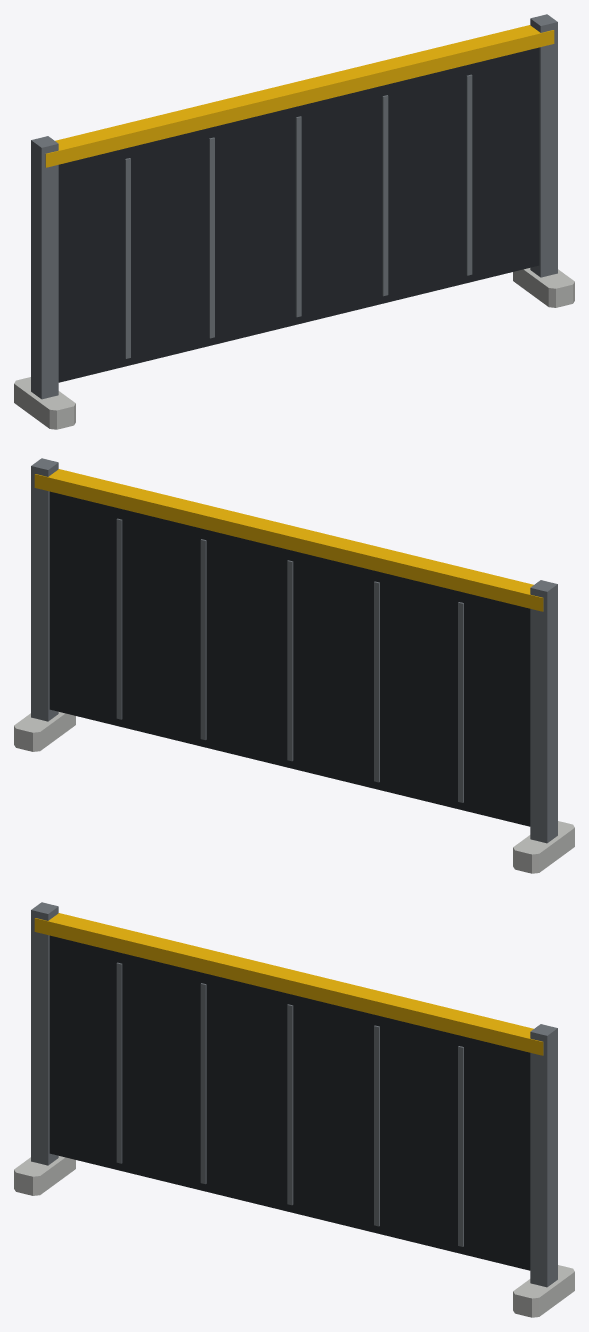
Rendered from CONSTRUCTION_FENCE_01.glb.
The picture shows the model from 3 angles, top to bottom: view 1: azimuth 30°, elevation 25°; view 2: azimuth 150°, elevation 25°; view 3: azimuth 330°, elevation 25°; orthographic projection.
Visible parts, largest first — view 1: CIVRUM_GAME_CONSTRUCTION_FENCE_01; view 2: CIVRUM_GAME_CONSTRUCTION_FENCE_01; view 3: CIVRUM_GAME_CONSTRUCTION_FENCE_01.
Part boxes in pixels (<box>): CIVRUM_GAME_CONSTRUCTION_FENCE_01: <box>14,14,574,429</box>; CIVRUM_GAME_CONSTRUCTION_FENCE_01: <box>14,458,574,873</box>; CIVRUM_GAME_CONSTRUCTION_FENCE_01: <box>14,902,574,1317</box>.
Bounding box in the file's own units: 4 × 1.97 × 0.54.
